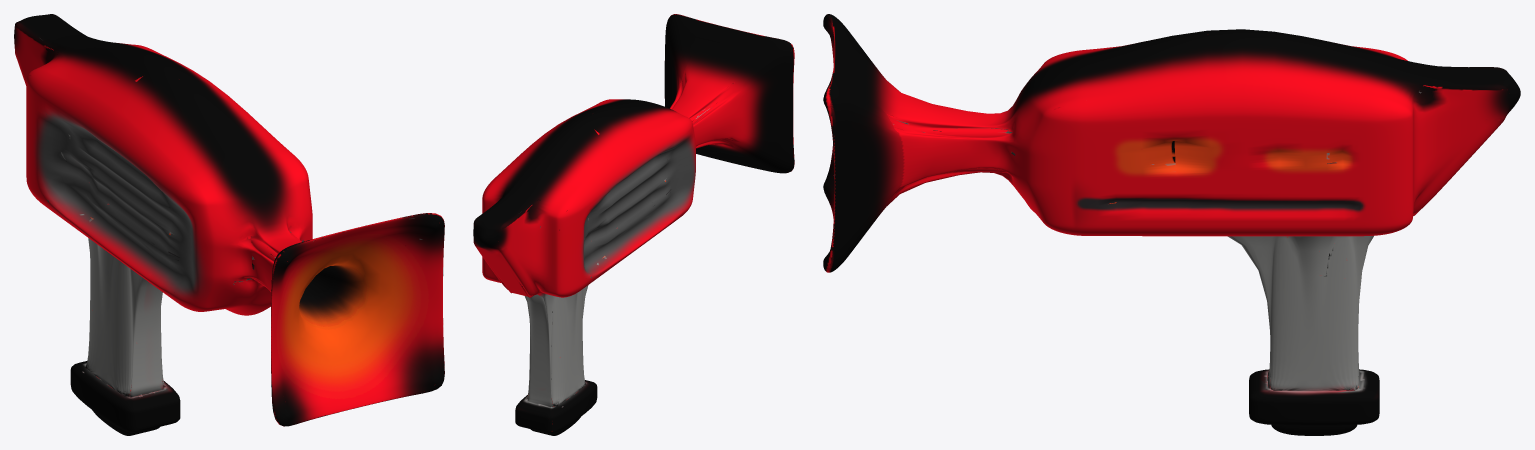
File: gun.fbx
3 views of the same model, side by side, from view 1: azimuth 30°, elevation 25°; view 2: azimuth 150°, elevation 25°; view 3: azimuth 270°, elevation 25° (orthographic). The views are drawn at different scales.
Visible parts, largest first — view 1: Cube; view 2: Cube; view 3: Cube.
Boxes of the visible parts, left/top/right/bottom form: Cube: left=14, top=14, right=444, bottom=435; Cube: left=473, top=14, right=794, bottom=435; Cube: left=823, top=14, right=1520, bottom=435.
Bounding box in the file's own units: 11.03 × 23.59 × 37.39.
Materials: 1 (1 with a texture image).
